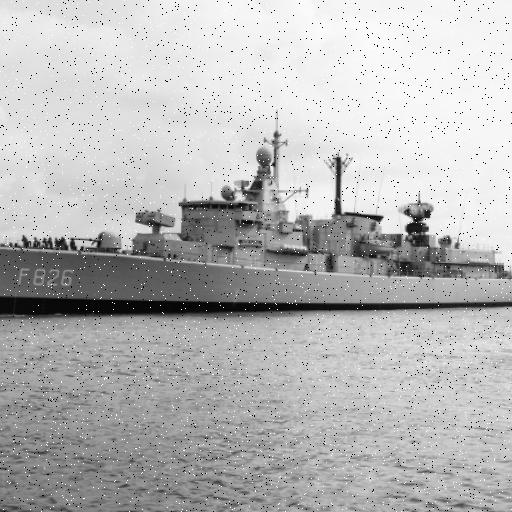Fragata: (1, 108, 512, 324)
